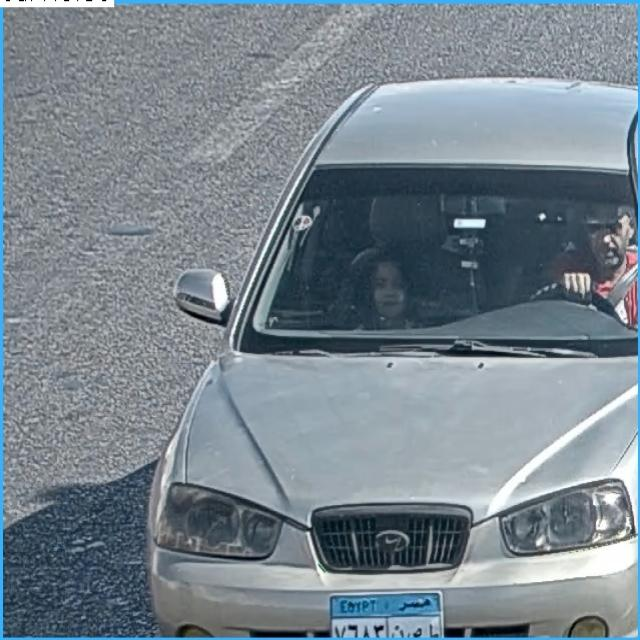windshield: (256, 160, 640, 347)
